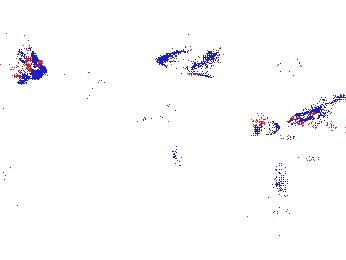X-ray fish: (135, 83, 173, 139), (56, 56, 104, 98), (1, 46, 50, 83)
red belly glassfish: (259, 131, 301, 146), (289, 151, 322, 167)
redtail glassfish: (287, 91, 346, 135), (153, 42, 227, 73), (276, 51, 306, 78), (248, 114, 281, 138)
